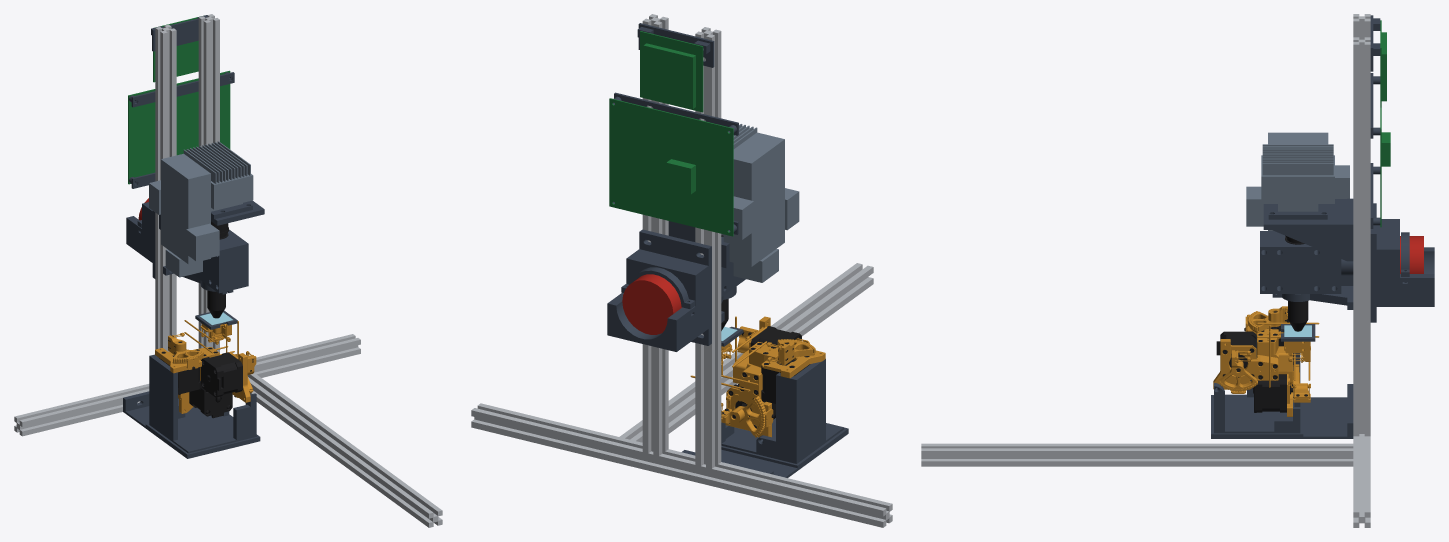
The model's file is stepper.glb.
3 renders of one model, left to right at view 1: azimuth 30°, elevation 25°; view 2: azimuth 150°, elevation 25°; view 3: azimuth 270°, elevation 25°, orthographic. The views are drawn at different scales.
Visible parts, largest first — view 1: projector LED block [E], bar B (base), upright left, stage: stand, bar A (base), main board, upright right, projector light engine, stage: actuator 2 motor, stage base, camera clamp block, beamsplitter holder base (+8 smaller); view 2: main board, bar A (base), projector LED block [E], camera clamp block, upright left, stage: stand, bar B (base), side board (HDMI), upright right, camera ASI174MM, stage base, stage: actuator 3 motor mount (+9 smaller); view 3: bar B (base), upright right, projector light engine, camera clamp block, beamsplitter holder cover, projector bracket, stage: stand, stage base, projector LED block [E], bar A (base), stage: actuator 2 motor mount, stage: actuator 3 motor (+4 smaller).
Part boxes in pixels (x1,y1,x2,y2): projector LED block [E]: [149, 153, 219, 277]; bar B (base): [247, 373, 442, 527]; upright left: [155, 24, 176, 351]; stage: stand: [149, 354, 256, 453]; bar A (base): [14, 334, 360, 436]; main board: [128, 70, 230, 184]; upright right: [198, 14, 219, 353]; projector light engine: [183, 141, 253, 211]; stage: actuator 2 motor: [201, 352, 242, 397]; stage base: [123, 391, 260, 458]; camera clamp block: [126, 202, 155, 278]; beamsplitter holder base: [193, 239, 233, 293]; main board: [609, 98, 733, 236]; bar A (base): [471, 403, 892, 527]; projector LED block [E]: [721, 132, 799, 282]; camera clamp block: [607, 229, 711, 351]; upright left: [695, 27, 721, 468]; stage: stand: [721, 359, 844, 463]; bar B (base): [619, 263, 873, 442]; side board (HDMI): [640, 31, 703, 112]; upright right: [642, 14, 668, 455]; camera ASI174MM: [622, 274, 681, 334]; stage base: [681, 427, 848, 477]; stage: actuator 3 motor mount: [725, 369, 771, 437]; bar B (base): [921, 443, 1353, 466]; upright right: [1353, 37, 1370, 436]; projector light engine: [1261, 144, 1334, 211]; camera clamp block: [1370, 203, 1434, 322]; beamsplitter holder cover: [1260, 239, 1341, 293]; projector bracket: [1263, 198, 1353, 261]; stage: stand: [1214, 336, 1300, 433]; stage base: [1211, 384, 1353, 438]; projector LED block [E]: [1246, 132, 1349, 230]; bar A (base): [1353, 434, 1370, 527]; stage: actuator 2 motor mount: [1213, 339, 1278, 389]; stage: actuator 3 motor: [1253, 374, 1293, 412].
Bounding box in the file's own units: 0.5 × 0.52 × 0.594.
